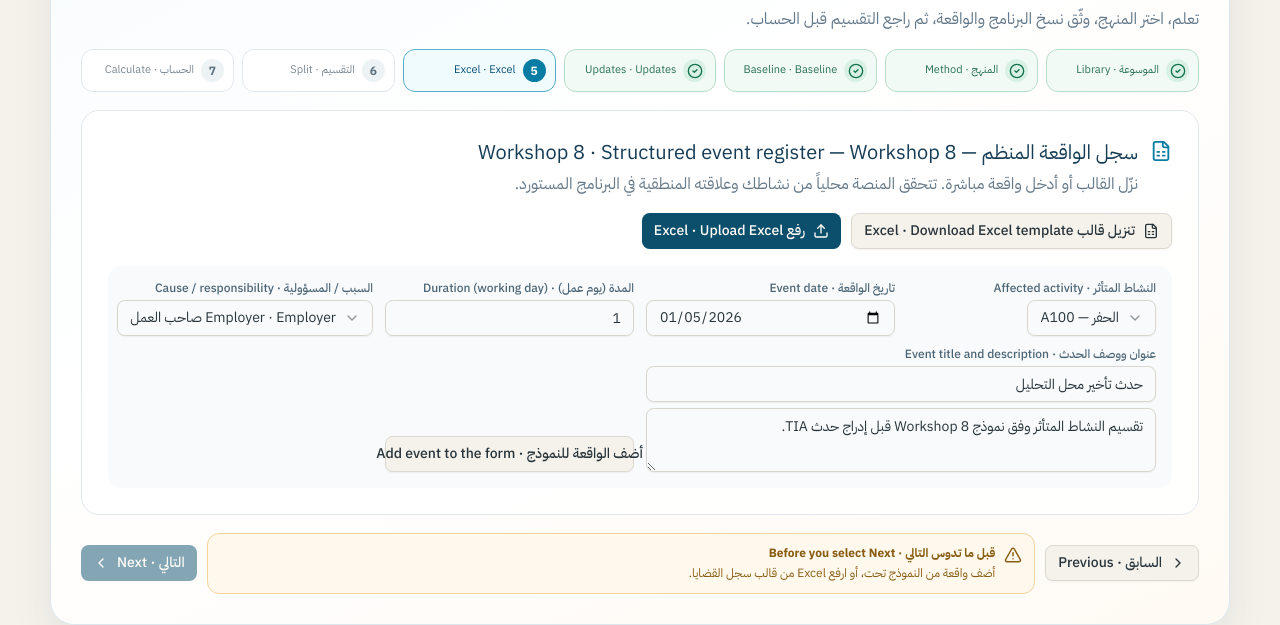
it: معالج رحلة TIA وفق Workshop 8 › يمنع المتابعة من سجل Workshop 8 حتى تضاف واقعة كاملة للمراجعة
Later steps or results of the test are not shown.
(page scrolled)
Click the button "التالي · Next": click(139, 563) [81,545,197,581]
Click the button "أضف الواقعة للنموذج · Add event to the form": click(510, 454) [385,436,634,472]
(page scrolled)
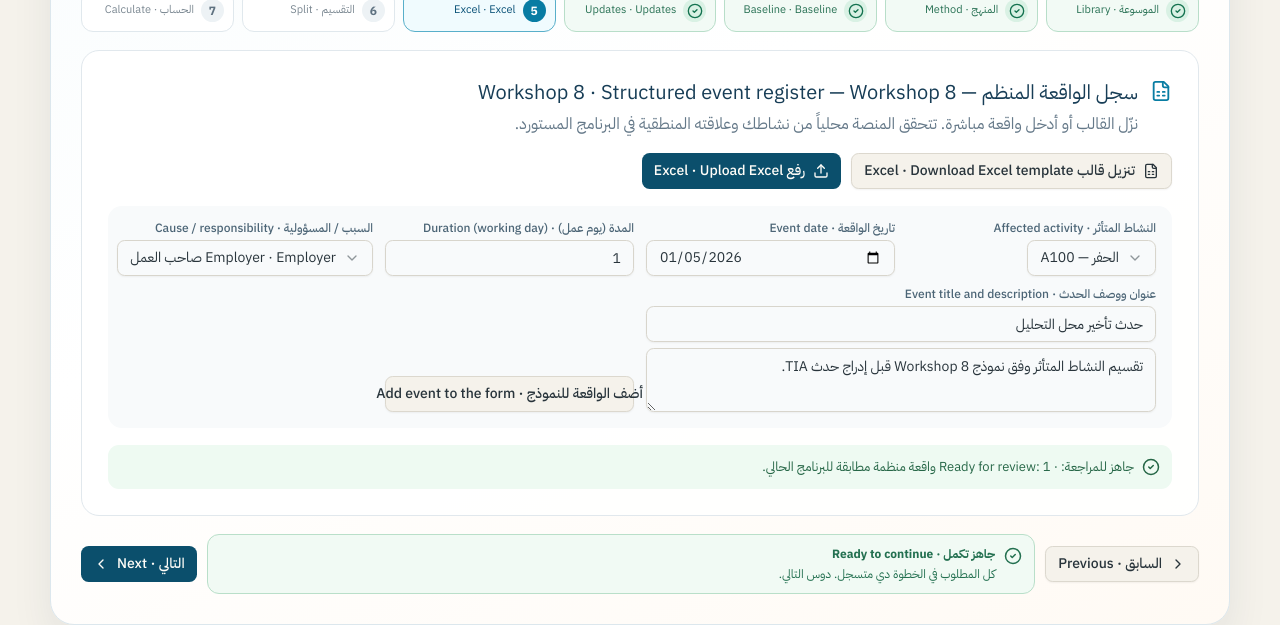
Check: the text "جاهز للمراجعة:" is shown, box [939,457,1134,476]
